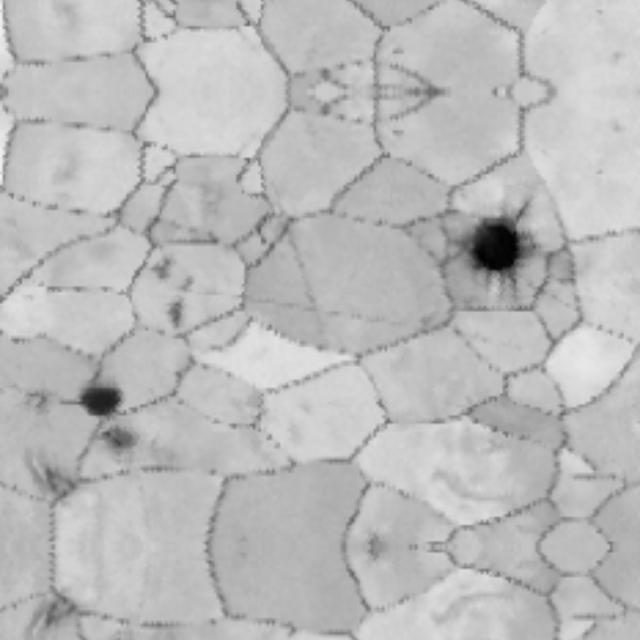good_void: (459, 210, 534, 280), (19, 446, 86, 514), (19, 582, 86, 640), (76, 380, 133, 420), (147, 257, 195, 299), (96, 424, 143, 459), (22, 387, 54, 422), (589, 150, 616, 182), (589, 2, 616, 34), (380, 120, 413, 145), (380, 39, 413, 64), (167, 301, 187, 329), (255, 225, 270, 248)
